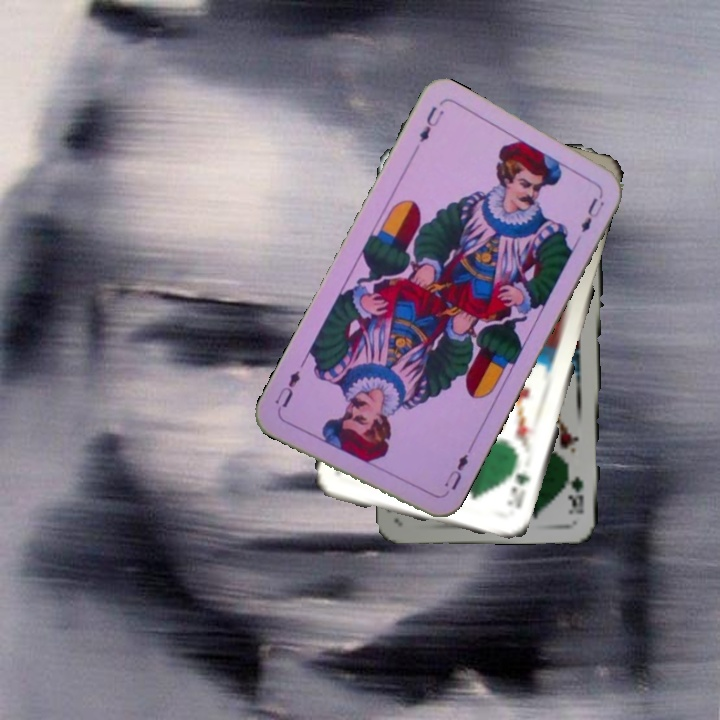EU: (409, 102, 447, 156), (440, 445, 473, 493)
GK: (503, 469, 532, 512), (569, 473, 586, 517)
